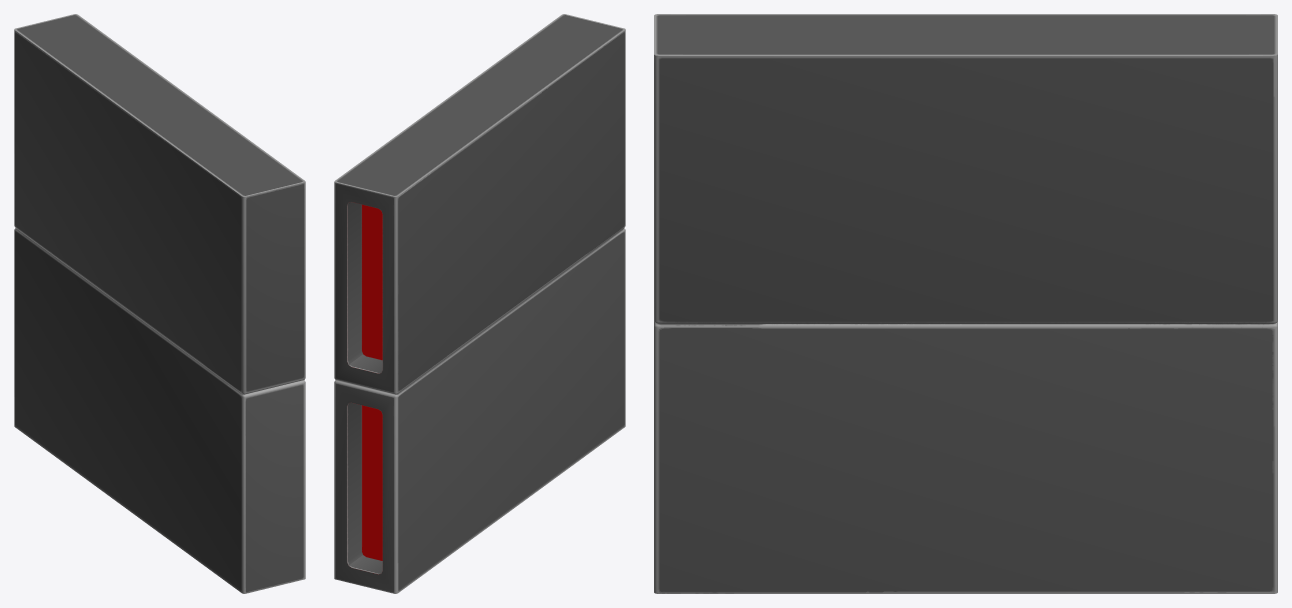
File: door v2 .fbx
The picture shows the model from 3 angles, left to right: view 1: azimuth 30°, elevation 25°; view 2: azimuth 150°, elevation 25°; view 3: azimuth 270°, elevation 25°; orthographic projection. The views are drawn at different scales.
Visible parts, largest first — view 1: Cube.004, Cube.006; view 2: Cube.004, Cube.006; view 3: Cube.004, Cube.006.
Part boxes in pixels (x1=…): Cube.004: x1=14, y1=14, x2=305, y2=394; Cube.006: x1=14, y1=228, x2=305, y2=593; Cube.004: x1=334, y1=14, x2=625, y2=394; Cube.006: x1=334, y1=228, x2=625, y2=593; Cube.004: x1=654, y1=14, x2=1277, y2=323; Cube.006: x1=654, y1=321, x2=1277, y2=593.
Size of the model in its own units: 40.54 by 243 by 255.
